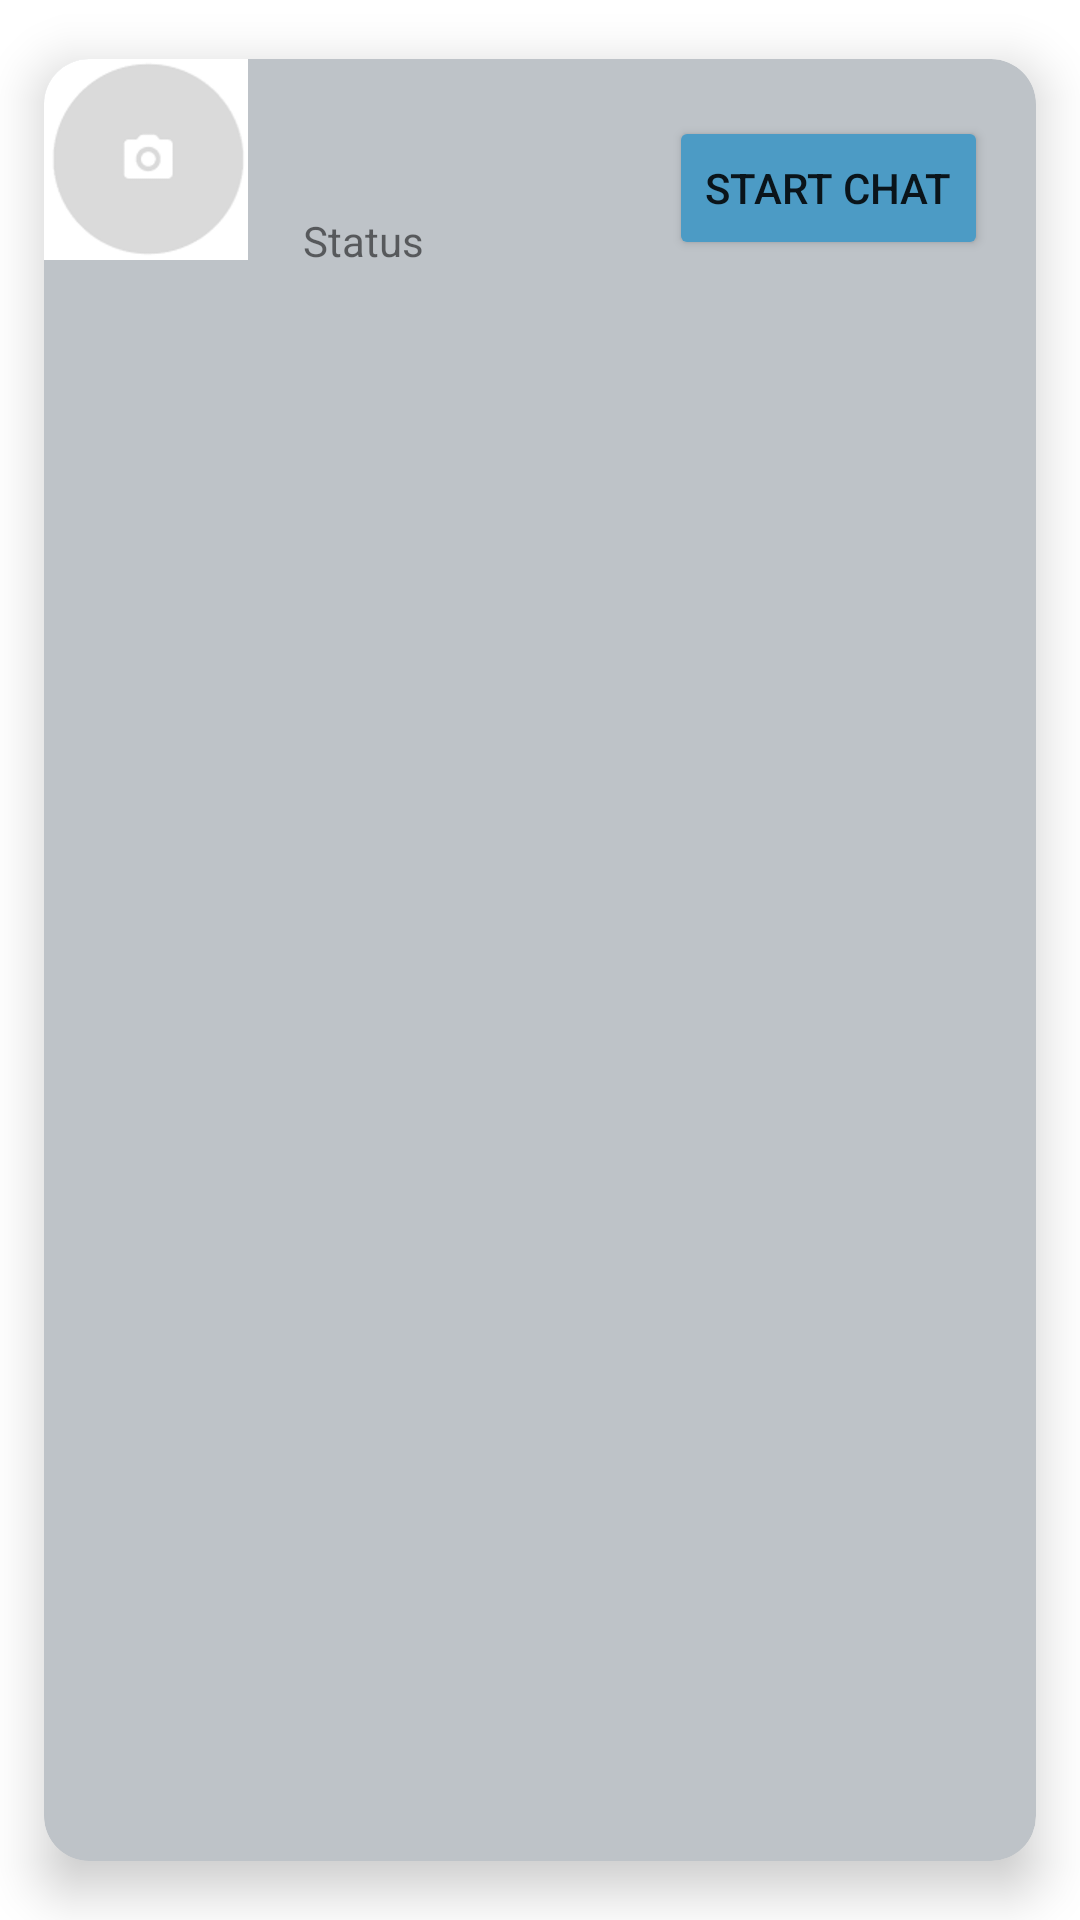

Named icons in this screenshot (1080px x 1920px) and their centers, (x=x, y=y):
uploaddp: (x=146, y=159)
